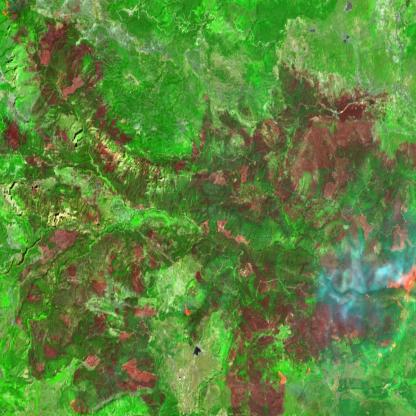fire: (382, 254, 416, 316), (262, 363, 292, 393), (172, 292, 195, 322)
